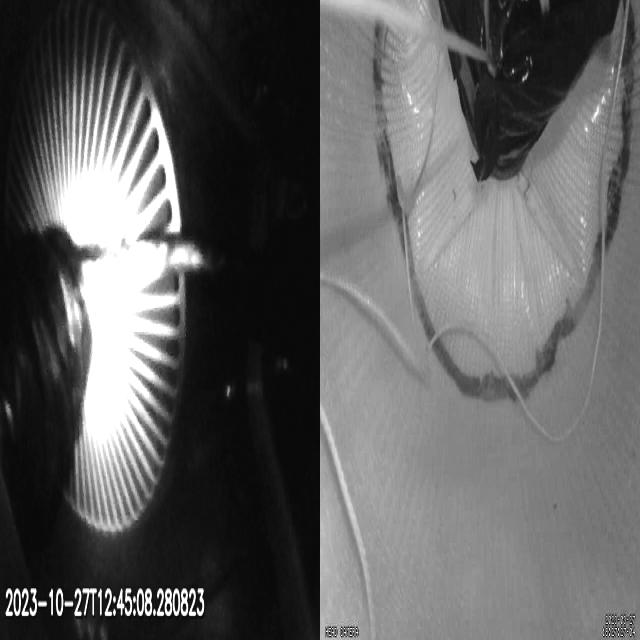red-circle: (372, 0, 640, 407)
